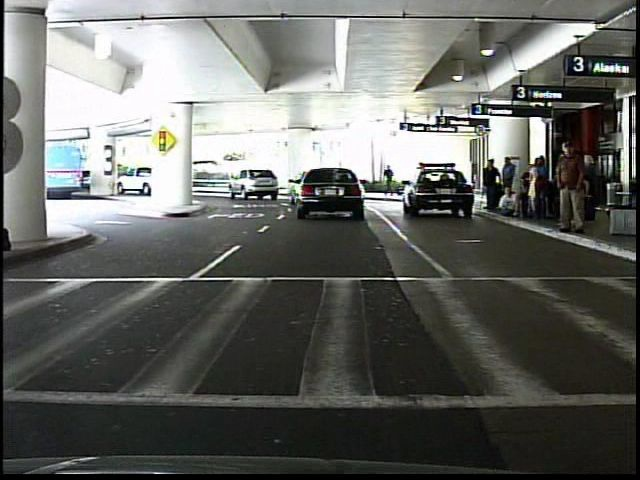person: (553, 140, 592, 239), (480, 159, 502, 216), (384, 164, 398, 199), (125, 162, 137, 188)
